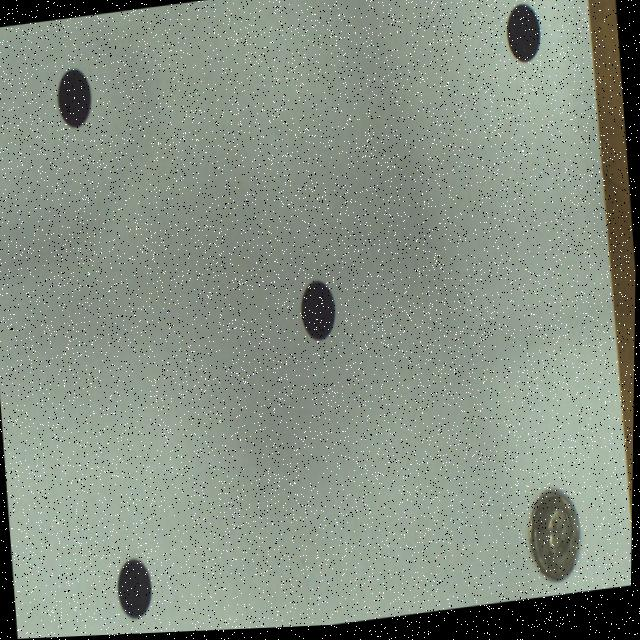head5bath: (531, 497, 581, 586)
space: (119, 559, 153, 620), (302, 283, 336, 344), (506, 8, 540, 67), (58, 69, 91, 127)
